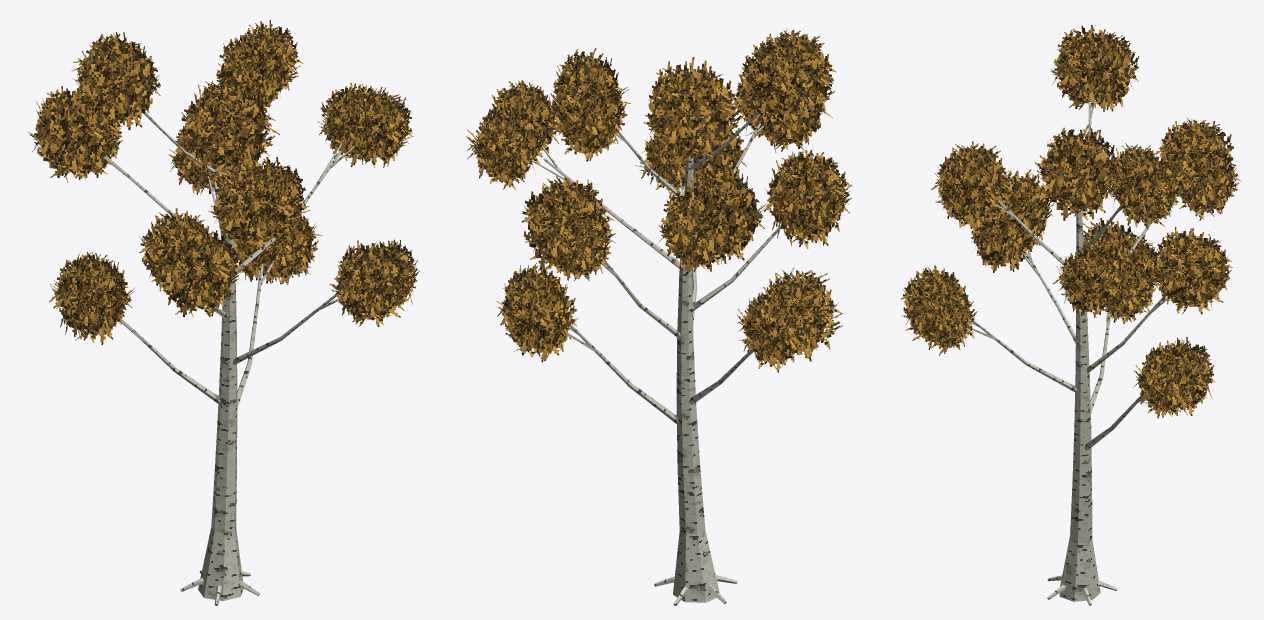
File: TREE_Birch_Autumn_B.glb
3 renders of one model, left to right at view 1: azimuth 30°, elevation 25°; view 2: azimuth 150°, elevation 25°; view 3: azimuth 270°, elevation 25°, orthographic. The views are drawn at different scales.
Parts seen in each view (by area): view 1: TREE_Birch_Autumn_B__Card, TREE_Birch_Autumn_B__Bark; view 2: TREE_Birch_Autumn_B__Card, TREE_Birch_Autumn_B__Bark; view 3: TREE_Birch_Autumn_B__Card, TREE_Birch_Autumn_B__Bark.
Boxes of the visible parts, left/top/right/bottom form: TREE_Birch_Autumn_B__Card: left=28, top=20, right=419, bottom=344; TREE_Birch_Autumn_B__Bark: left=97, top=90, right=355, bottom=605; TREE_Birch_Autumn_B__Card: left=466, top=28, right=851, bottom=372; TREE_Birch_Autumn_B__Bark: left=531, top=112, right=783, bottom=605; TREE_Birch_Autumn_B__Card: left=901, top=25, right=1240, bottom=418; TREE_Birch_Autumn_B__Bark: left=969, top=92, right=1182, bottom=605.
Bounding box in the file's own units: 6.99 × 10.57 × 6.57.
Materials: 3 (3 with a texture image).
